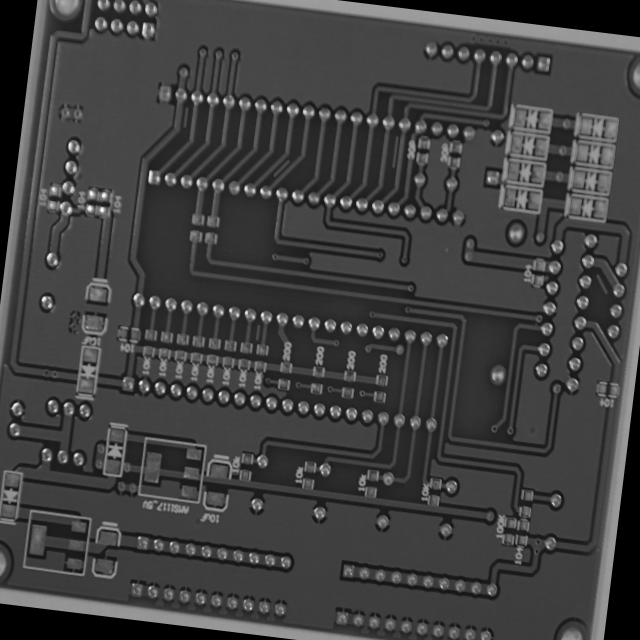spurious_copper: (265, 152, 294, 180), (384, 132, 404, 170), (588, 270, 612, 298), (179, 101, 194, 131), (250, 321, 264, 343)
